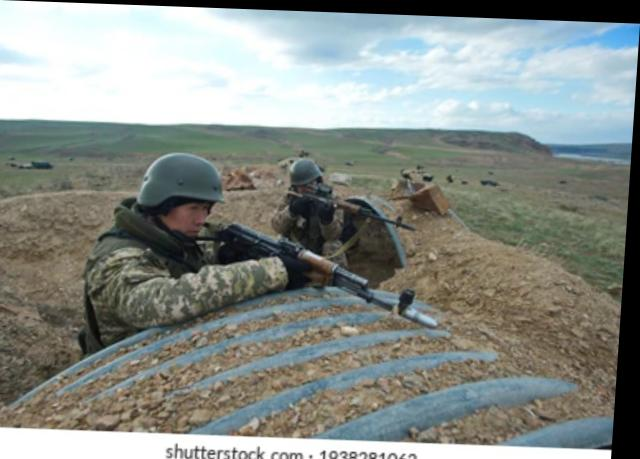other: (93, 154, 283, 322), (275, 160, 402, 273)
